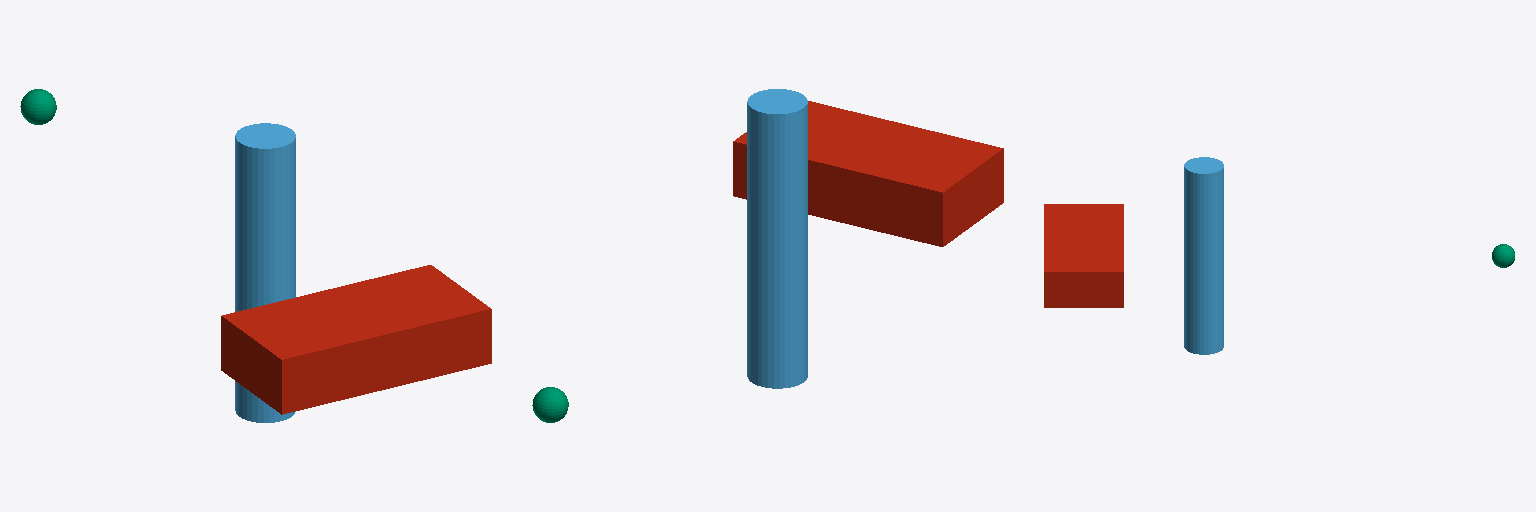
robot.urdf — two_link_arm:
<?xml version="1.0"?>
<robot name="two_link_arm">
  <link name="base_link">
    <visual>
      <origin xyz="0 0 0" rpy="0 0 0"/>
      <geometry><box size="0.4 0.2 0.1"/></geometry>
      <material name="material"><color rgba="0.8 0.2 0.1 1"/></material>
    </visual>
    <collision>
      <origin xyz="0 0 0" rpy="0 0 0"/>
      <geometry><box size="0.4 0.2 0.1"/></geometry>
    </collision>
  </link>
  <joint name="shoulder" type="revolute">
    <parent link="base_link"/>
    <child link="upper_link"/>
    <origin xyz="0 0.05 0" rpy="0 0 0"/>
    <axis xyz="0 0 1"/>
    <limit lower="-3.14" upper="3.14" effort="0" velocity="0"/>
  </joint>
  <link name="upper_link">
    <visual>
      <origin xyz="0 0.25 0" rpy="0 0 0"/>
      <geometry><cylinder radius="0.05" length="0.5"/></geometry>
    </visual>
    <collision>
      <origin xyz="0 0.25 0" rpy="0 0 0"/>
      <geometry><cylinder radius="0.05" length="0.5"/></geometry>
    </collision>
  </link>
  <joint name="elbow" type="revolute">
    <parent link="upper_link"/>
    <child link="tip_link"/>
    <origin xyz="0 0.5 0" rpy="0 0 0"/>
    <axis xyz="0 0 1"/>
    <limit lower="-1.57" upper="1.57" effort="0" velocity="0"/>
  </joint>
  <link name="tip_link">
    <visual>
      <origin xyz="0 0.5 0" rpy="0 0 0"/>
      <geometry><sphere radius="0.03"/></geometry>
    </visual>
    <collision>
      <origin xyz="0 0.5 0" rpy="0 0 0"/>
      <geometry><sphere radius="0.03"/></geometry>
    </collision>
  </link>
</robot>

--- What the picture shows (computed from the rendered views, not written in the file) ---
Views: 3 orthographic renders of the robot side by side, from view 1: azimuth 30°, elevation 25°; view 2: azimuth 150°, elevation 25°; view 3: azimuth 270°, elevation 25°.
Robot: two_link_arm — 3 links, 2 joints (2 revolute); root link base_link; default pose: every joint at zero.
Links seen in each view (by area): view 1: base_link, upper_link, tip_link; view 2: base_link, upper_link, tip_link; view 3: base_link, upper_link.
Boxes of the visible links, box(x1,y1,x2,y2) form: base_link: box(221, 265, 491, 414); upper_link: box(235, 123, 295, 422); tip_link: box(20, 89, 56, 124); base_link: box(733, 101, 1003, 246); upper_link: box(747, 89, 807, 388); tip_link: box(532, 387, 568, 422); base_link: box(1044, 204, 1123, 307); upper_link: box(1184, 157, 1223, 354).
Size in the robot's own frame: 0.4 by 1.18 by 0.5 metres.
Geometry: primitives only (box / cylinder / sphere), no mesh files.
